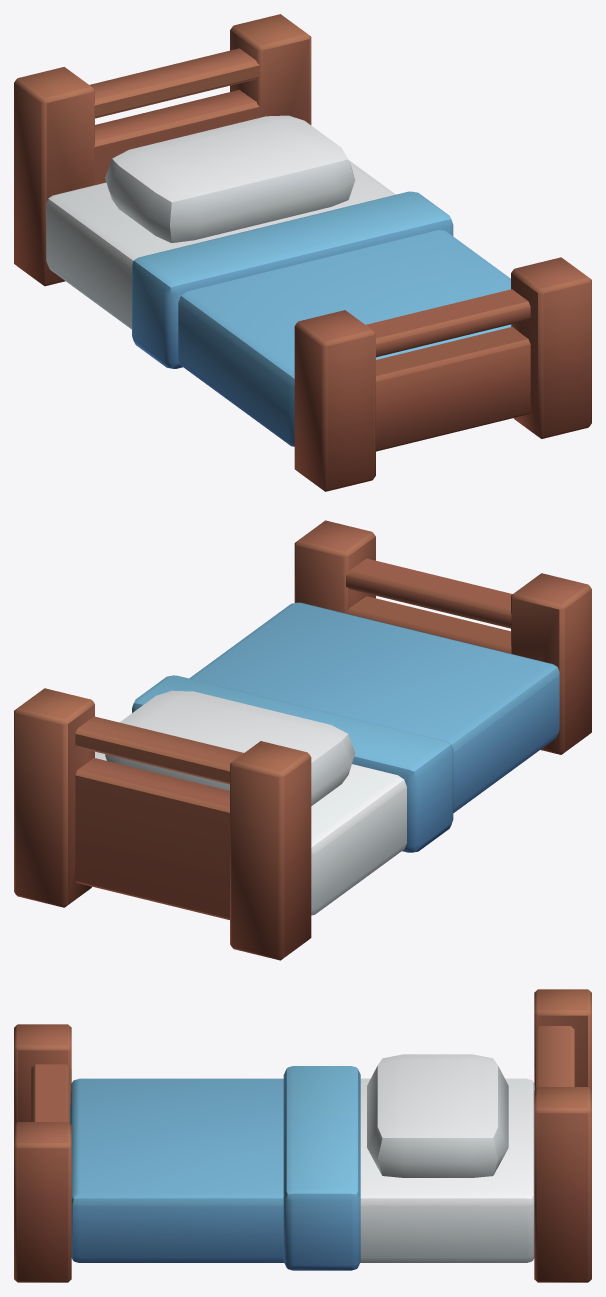
Rendered from bed-single-b.glb.
3 views of the same model, one above another, from view 1: azimuth 30°, elevation 25°; view 2: azimuth 150°, elevation 25°; view 3: azimuth 270°, elevation 25° (orthographic). The views are drawn at different scales.
Visible parts, largest first — view 1: bed_single_B; view 2: bed_single_B; view 3: bed_single_B.
Boxes of the visible parts, x1=… form: bed_single_B: x1=14, y1=14, x2=591, y2=491; bed_single_B: x1=14, y1=520, x2=591, y2=960; bed_single_B: x1=14, y1=989, x2=591, y2=1282.
Size of the model in its own units: 1.6 by 0.9999 by 3.
1 material, 1 textured.
